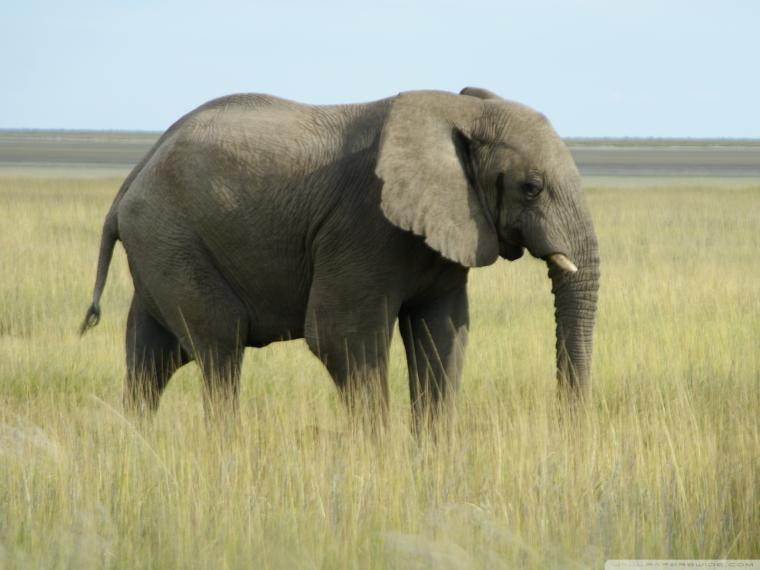africanelephant: (404, 101, 657, 327)
